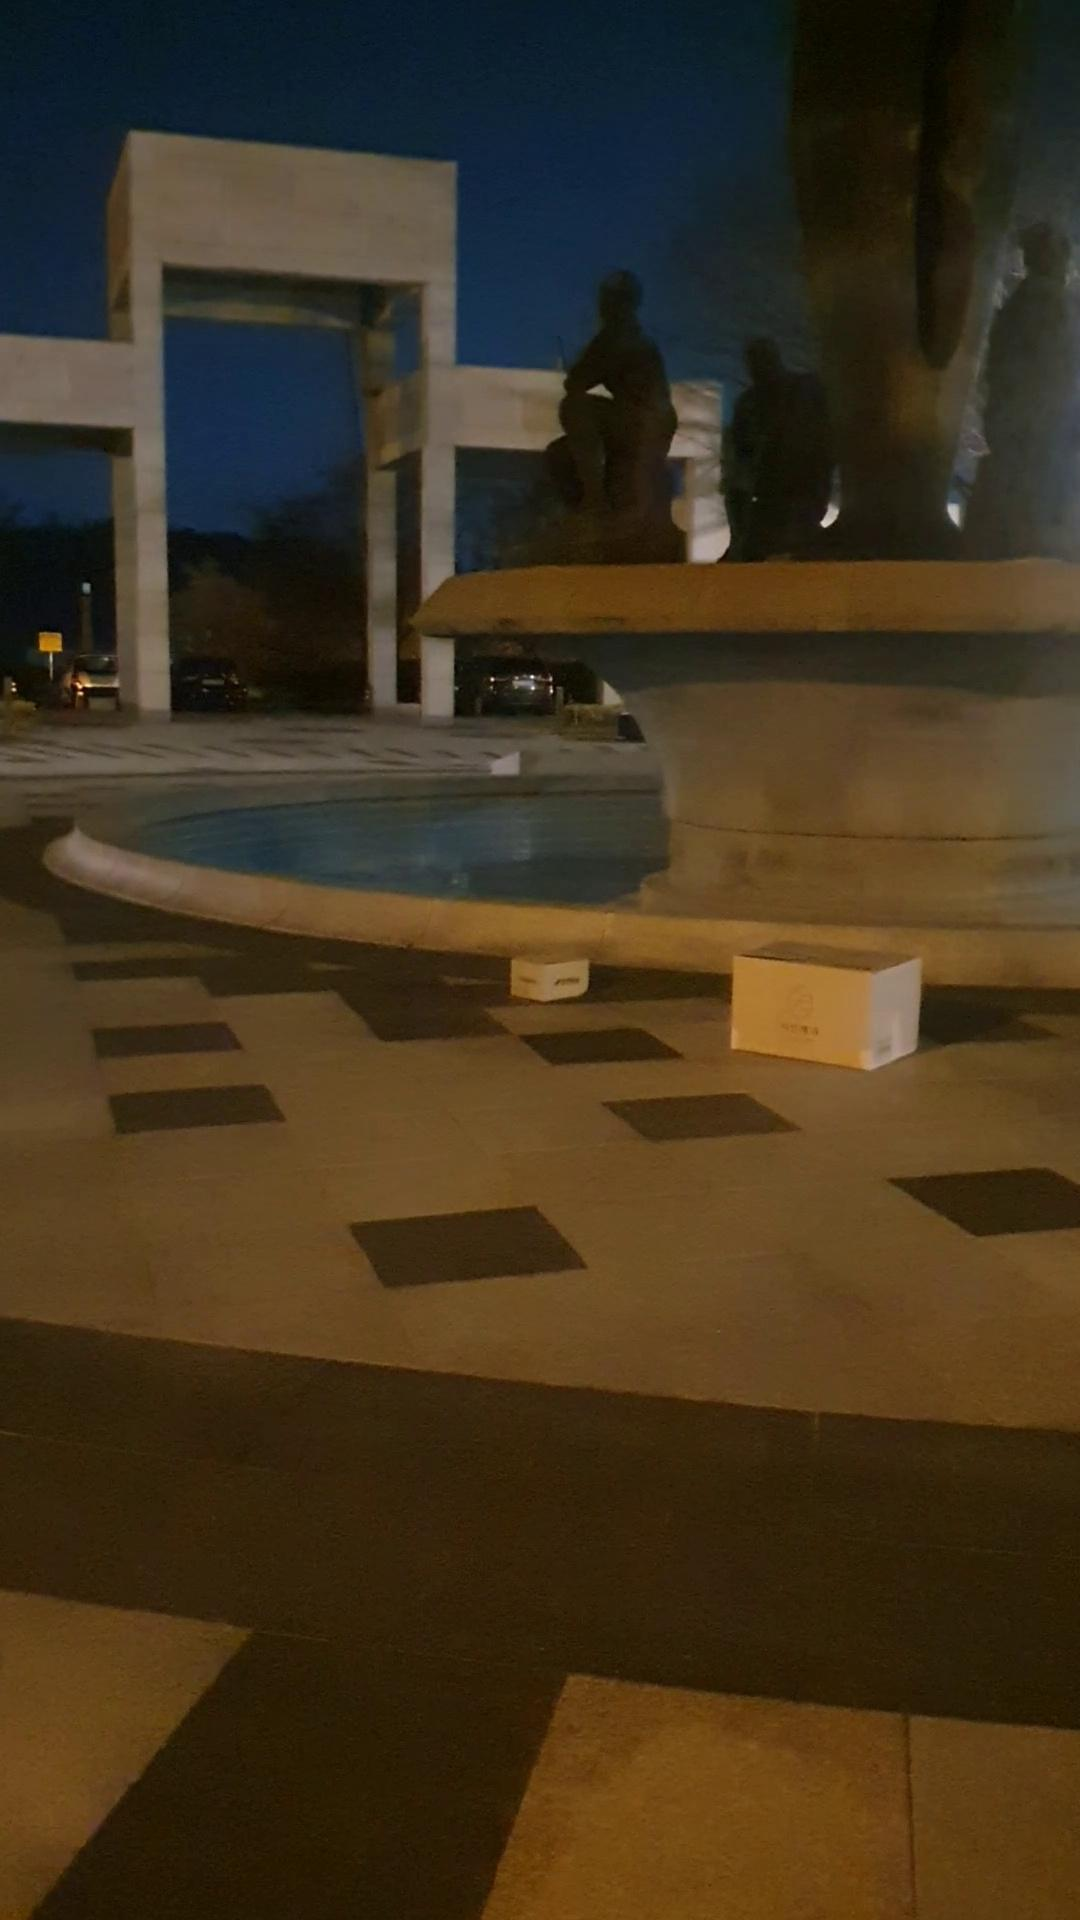Box: (711, 940, 932, 1067), (498, 935, 595, 1022)
